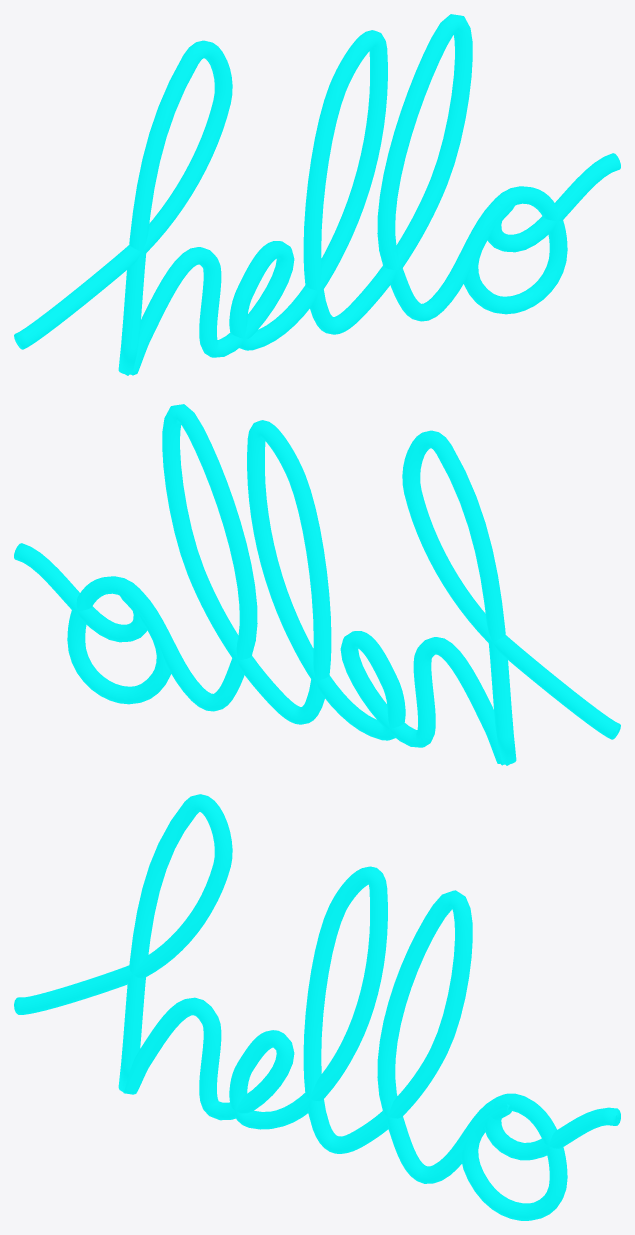
The model's file is NeonGenerator.gltf.
3 renders of one model, top to bottom at view 1: azimuth 30°, elevation 25°; view 2: azimuth 150°, elevation 25°; view 3: azimuth 330°, elevation 25°, orthographic.
Visible parts, largest first — view 1: NeonGlass.001; view 2: NeonGlass.001; view 3: NeonGlass.001.
Part boxes in pixels (left/top/right/bottom): NeonGlass.001: left=14, top=14, right=620, bottom=375; NeonGlass.001: left=14, top=404, right=620, bottom=765; NeonGlass.001: left=14, top=794, right=620, bottom=1220.
Bounding box in the file's own units: 18.74 × 10.33 × 0.5374.
